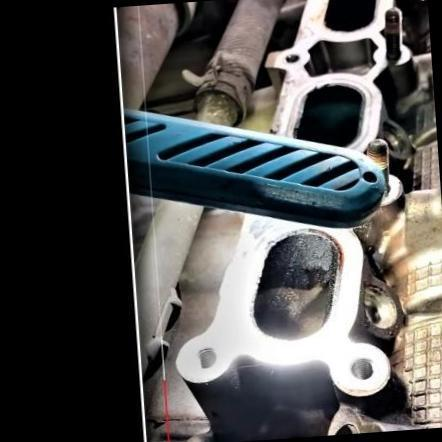hole: (190, 346, 218, 374), (346, 356, 376, 382), (280, 52, 302, 66)
